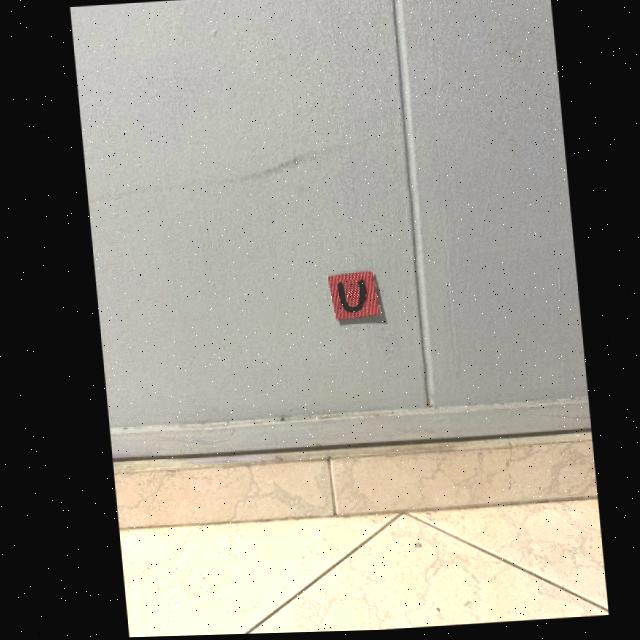U: (334, 282, 362, 314)
